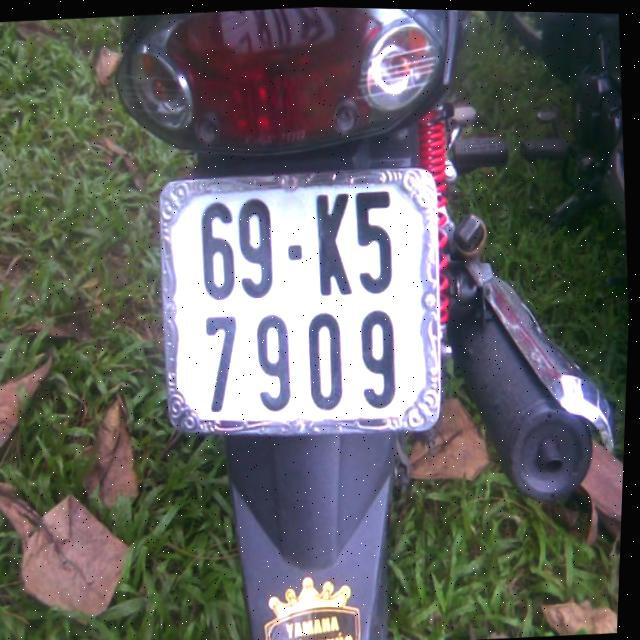motorcycle: (79, 2, 640, 640)
plate: (142, 157, 453, 452)
